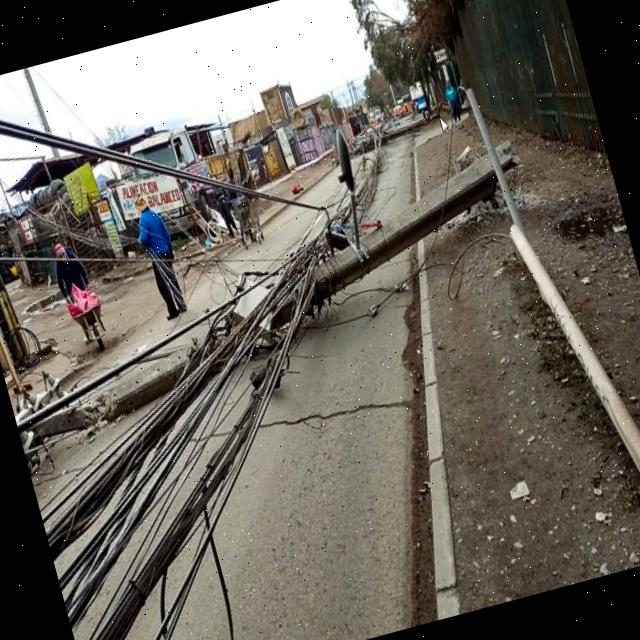Broken Pole: (17, 84, 640, 640)
